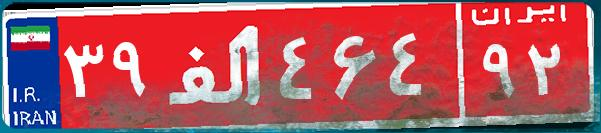2: (525, 38, 570, 115)
3: (57, 26, 110, 107)
4: (385, 28, 445, 110), (273, 28, 330, 110)
6: (330, 28, 385, 110)
9: (475, 38, 525, 113), (110, 28, 158, 105)
الف: (158, 15, 273, 115)
